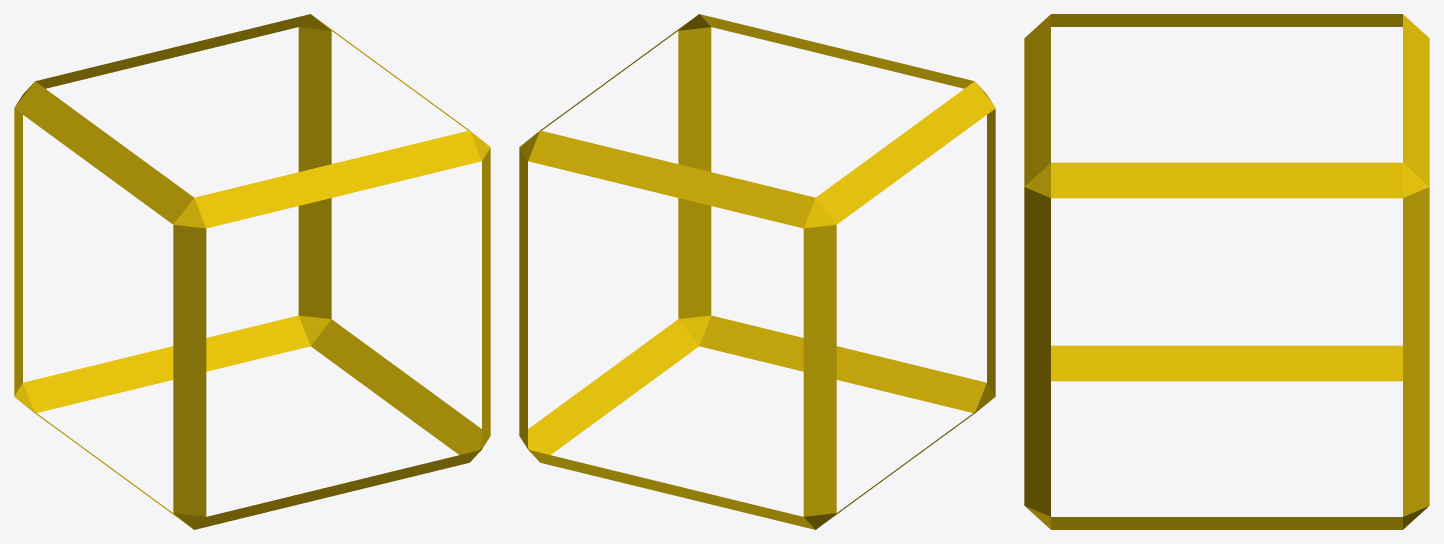
File: tile_square.glb
3 views of the same model, side by side, from view 1: azimuth 30°, elevation 25°; view 2: azimuth 150°, elevation 25°; view 3: azimuth 270°, elevation 25° (orthographic). The views are drawn at different scales.
Visible parts, largest first — view 1: Cube; view 2: Cube; view 3: Cube.
Part boxes in pixels (x1,y1,x2,y2): Cube: (14, 14, 490, 529); Cube: (519, 14, 995, 529); Cube: (1024, 14, 1429, 529).
Size of the model in its own units: 2 by 2 by 2.
